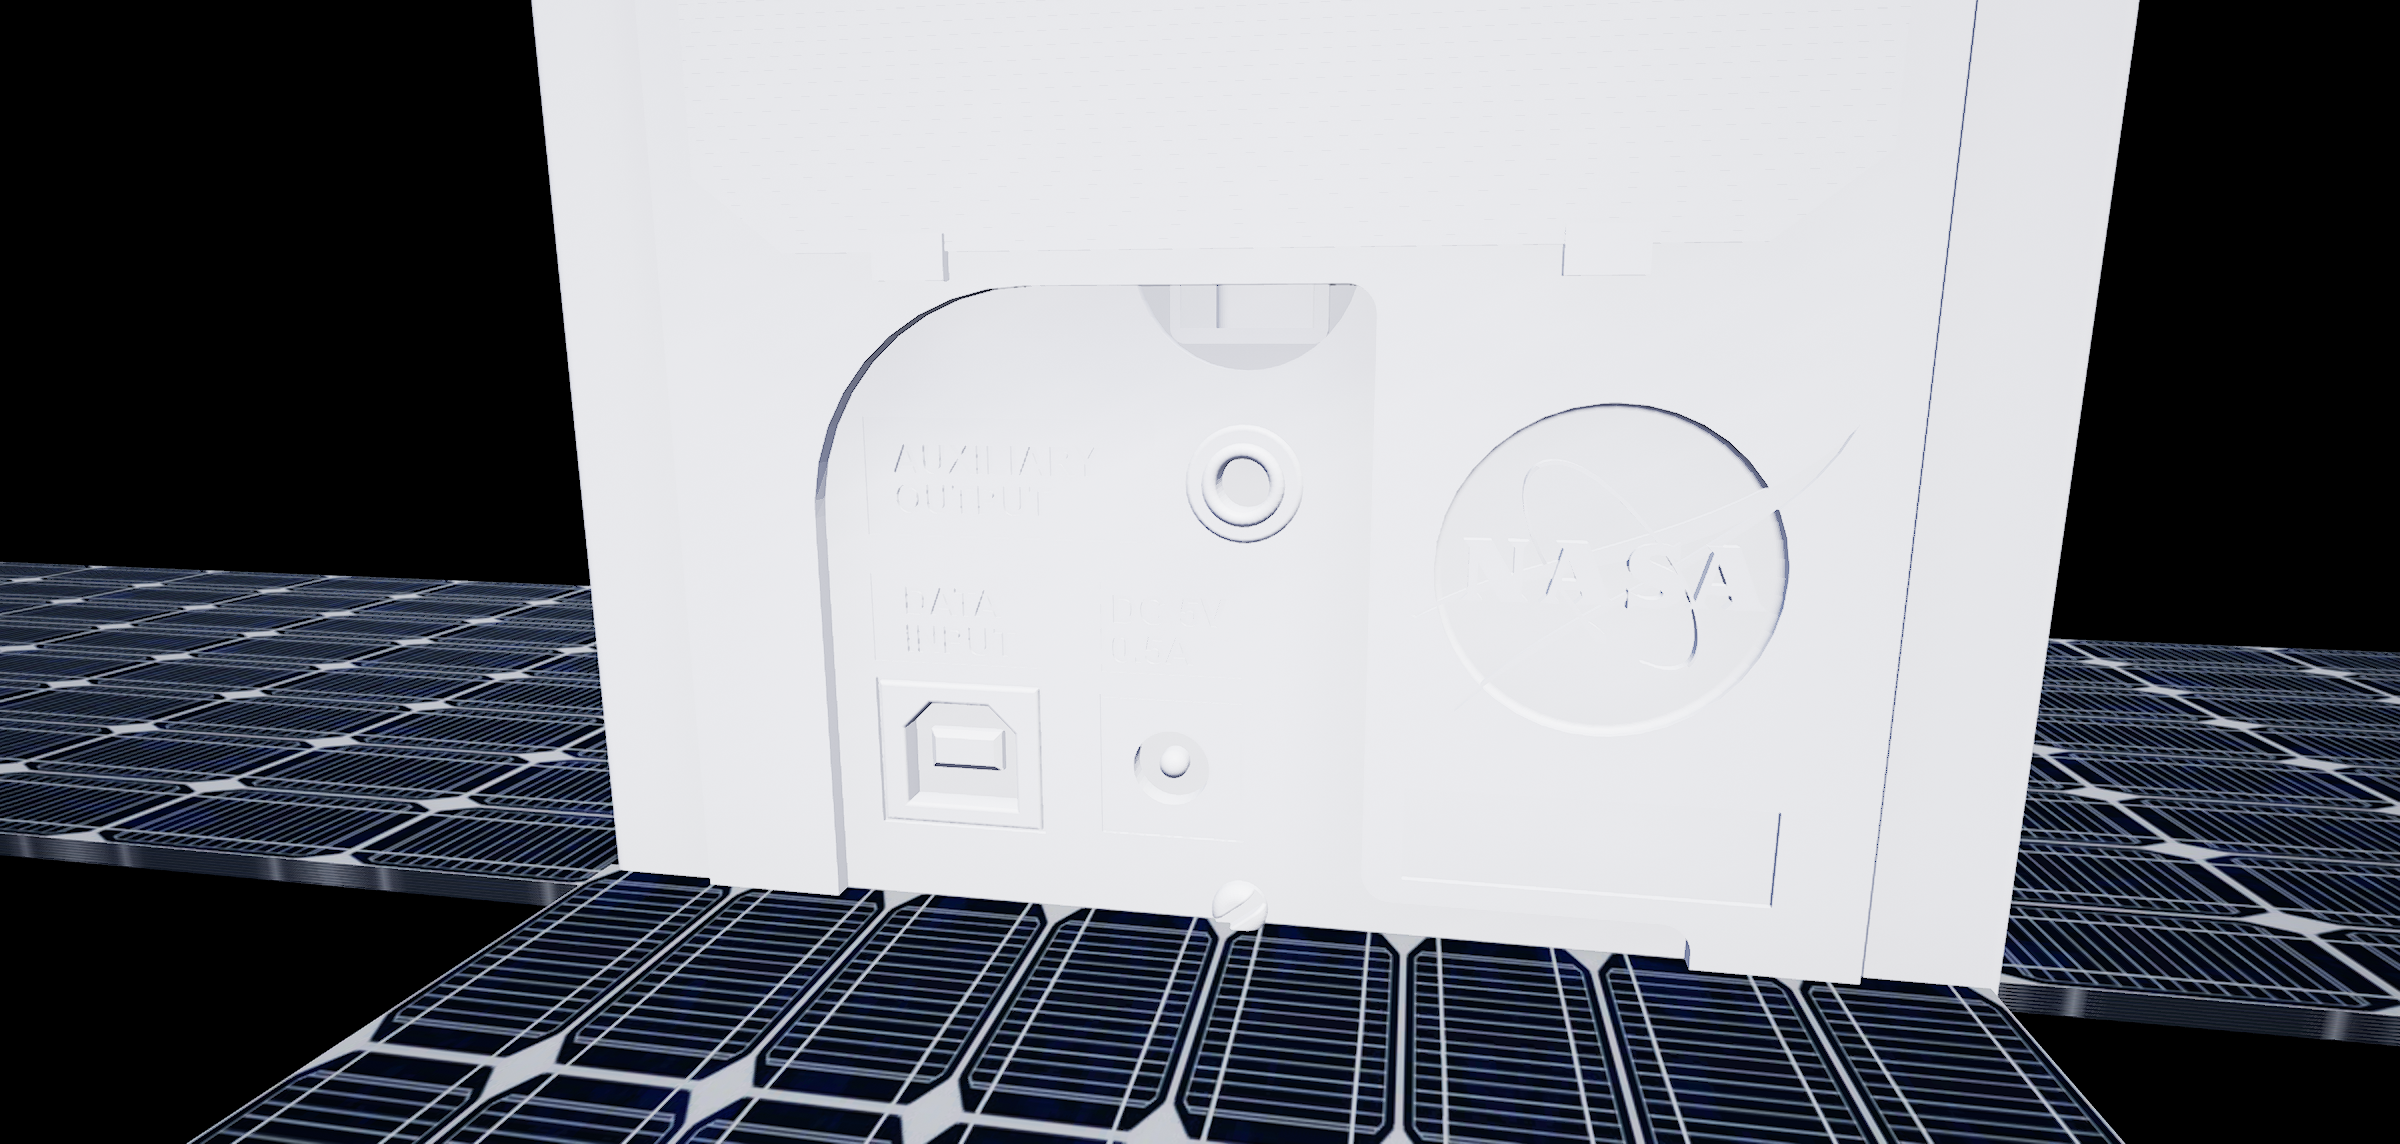aux: (1179, 412, 1315, 554)
dc: (1125, 721, 1221, 812)
usb: (903, 694, 1030, 822)
